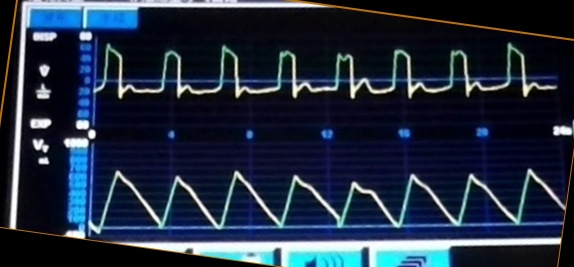Premature_cycling Flow: (98, 41, 554, 121)
Premature_cycling Volume: (94, 152, 561, 233)
